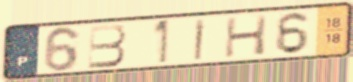1: (151, 18, 172, 66)
6: (41, 25, 82, 73), (274, 10, 312, 56)
B: (86, 22, 129, 70)
H: (222, 13, 270, 59)
I: (192, 17, 208, 62)
